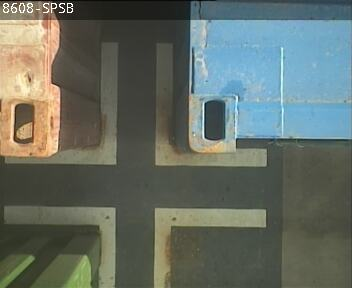groundmarker_1: (4, 44, 265, 165), (4, 203, 267, 286)
